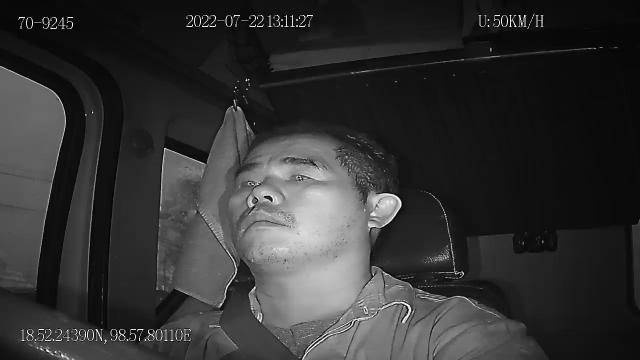SafeDriving: (280, 164, 322, 188)
Seatbelt: (218, 290, 302, 360)
